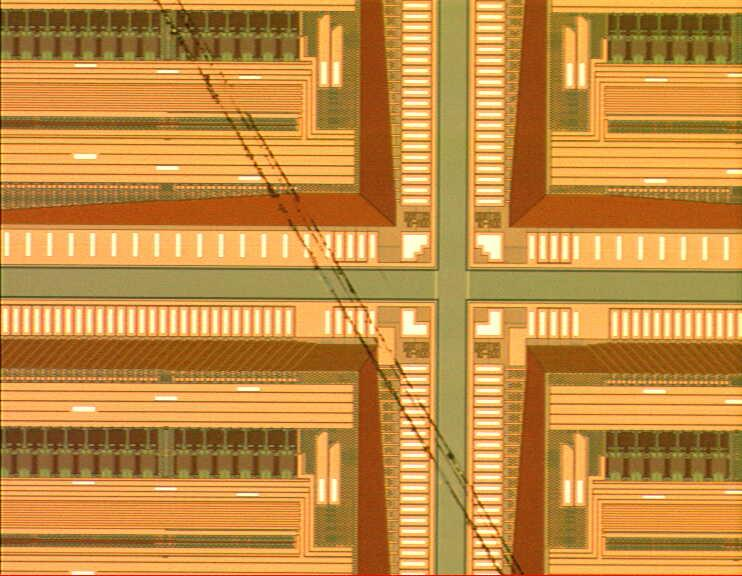SCRATCH: (141, 1, 563, 576)
